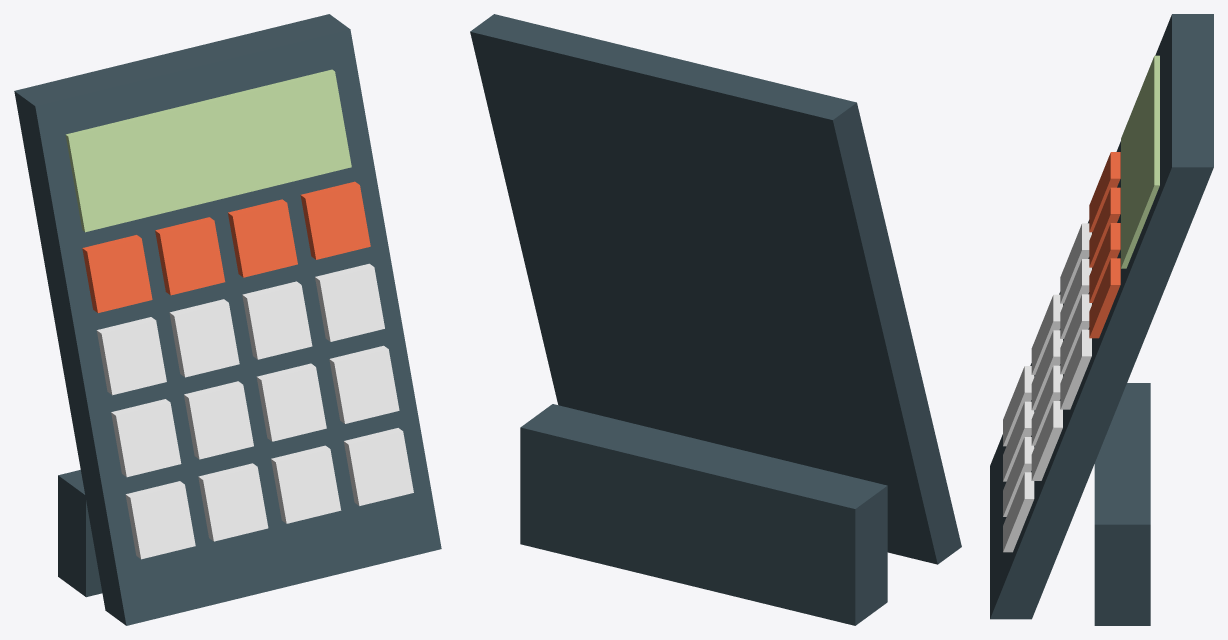
The model's file is miniraknare.glb.
3 views of the same model, side by side, from view 1: azimuth 30°, elevation 25°; view 2: azimuth 150°, elevation 25°; view 3: azimuth 270°, elevation 25° (orthographic). The views are drawn at different scales.
Parts seen in each view (by area): view 1: miniraknare; view 2: miniraknare; view 3: miniraknare.
Part boxes in pixels (box(x1,y1,x2,y2)): miniraknare: box(14, 14, 441, 625); miniraknare: box(470, 14, 961, 625); miniraknare: box(990, 14, 1213, 625).
Bounding box in the file's own units: 0.26 × 0.367 × 0.1603.
